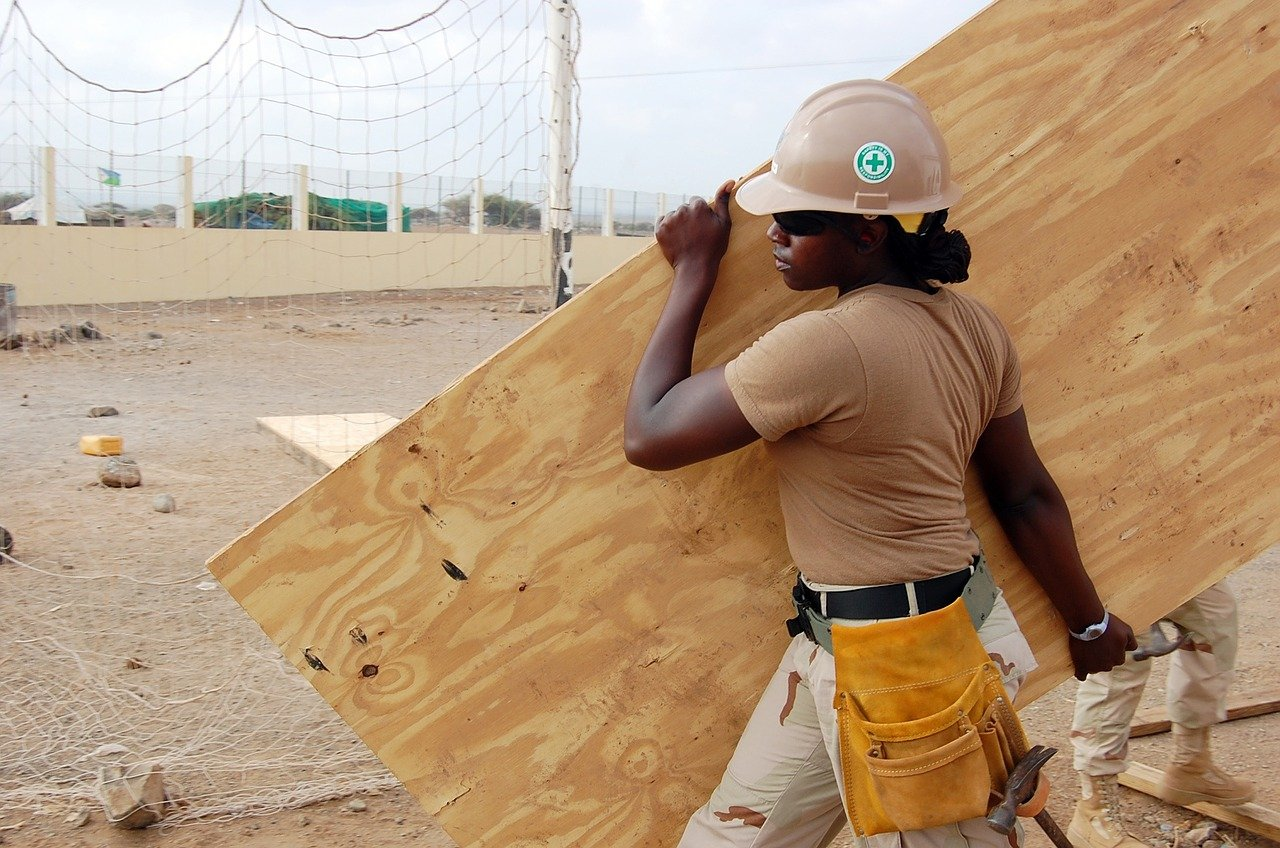Hard Hat: (727, 80, 971, 295)
Person: (619, 80, 1134, 842), (1067, 571, 1254, 847)
